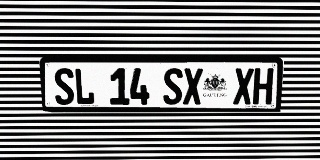1: (109, 68, 129, 105)
4: (130, 68, 149, 105)
H: (252, 68, 274, 104)
L: (74, 68, 95, 105)
S: (53, 68, 75, 105), (163, 68, 183, 105)
X: (233, 68, 254, 104), (183, 68, 203, 105)
